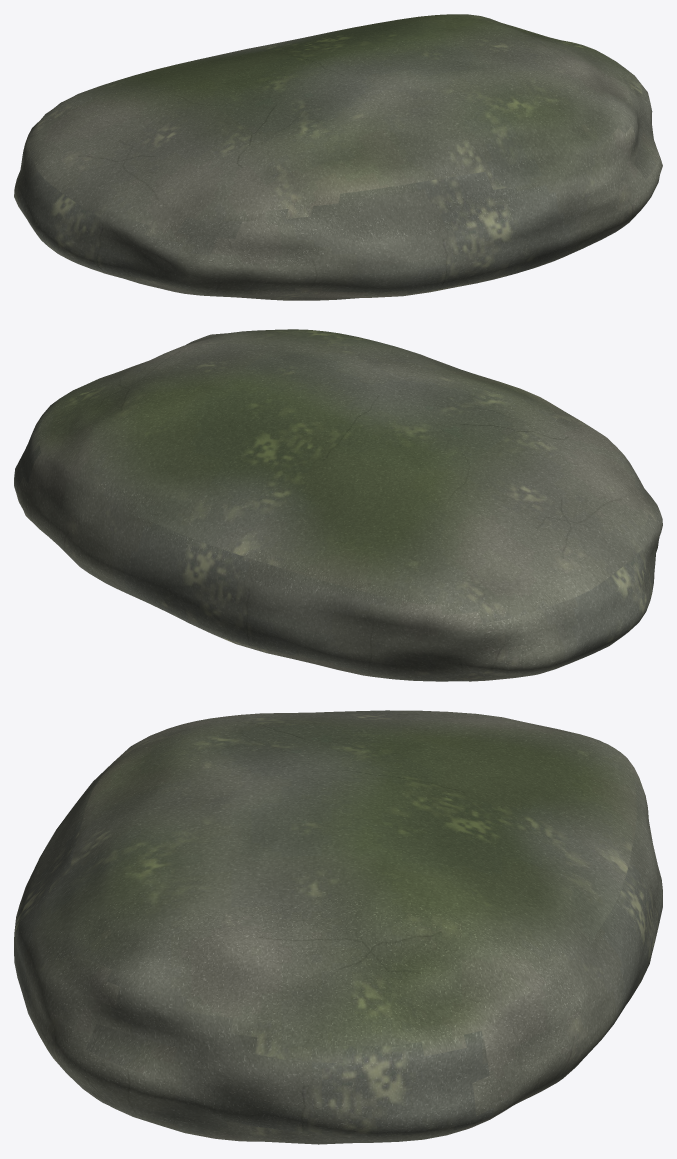
File: bed_rock_b.gltf
The picture shows the model from 3 angles, top to bottom: view 1: azimuth 30°, elevation 25°; view 2: azimuth 150°, elevation 25°; view 3: azimuth 270°, elevation 25°; orthographic projection. The views are drawn at different scales.
Parts seen in each view (by area): view 1: bed_rock_b_LOD0; view 2: bed_rock_b_LOD0; view 3: bed_rock_b_LOD0.
Boxes of the visible parts, x1,y1,x2,y2 form: bed_rock_b_LOD0: (14,14,662,300); bed_rock_b_LOD0: (14,329,662,681); bed_rock_b_LOD0: (14,710,662,1144).
Size of what is drawn, in the model's own units: 0.6266 by 0.1819 by 0.455.
1 material, 1 textured.
